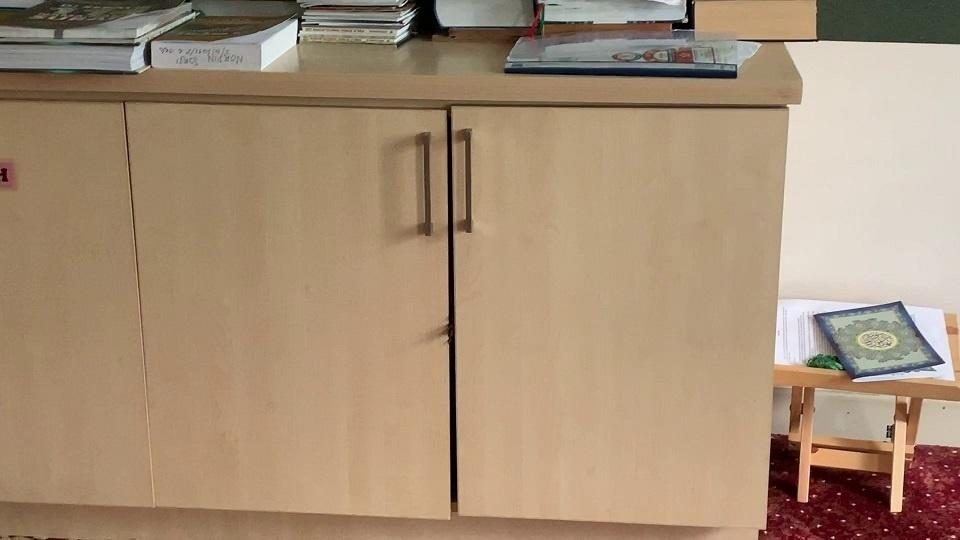cabinet_door: (459, 112, 778, 527), (139, 112, 447, 516), (0, 104, 135, 504)
handle: (414, 129, 438, 241), (457, 123, 478, 239)
